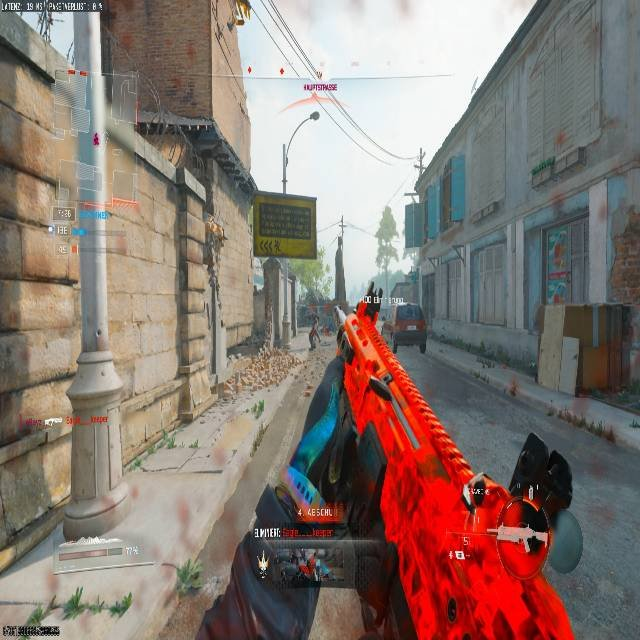player: (307, 313, 320, 350)
